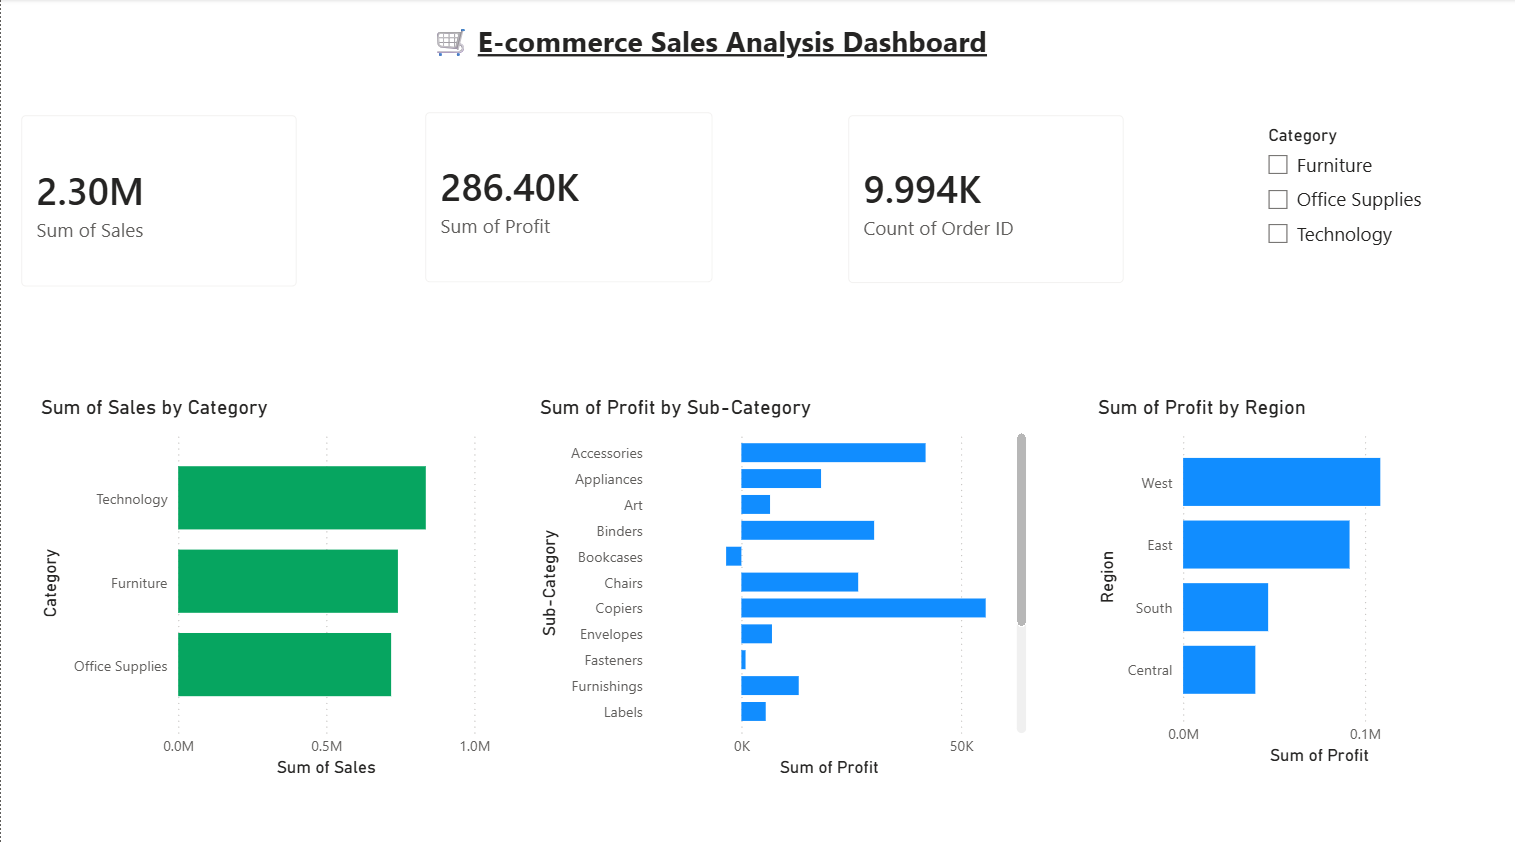

The page's visual inventory and layout, read from the dashboard file:
{"tool":"powerbi","page":{"name":"Page 1","canvas":[1280,720],"ordinal":0},"visuals":[{"type":"cardVisual","fields":{"Data":["Sum(Sample - Superstore.Sales)"]},"box":[0,80.8,267.4,179.8],"z":0},{"type":"cardVisual","fields":{"Data":["Sum(Sample - Superstore.Profit)"]},"box":[341.3,78.5,277.6,178.6],"z":1000},{"type":"cardVisual","fields":{"Data":["CountNonNull(Sample - Superstore.Order ID)"]},"box":[698.6,80.8,267.4,176.4],"z":2000},{"type":"clusteredBarChart","fields":{"Category":["Sample - Superstore.Category"],"Y":["Sum(Sample - Superstore.Sales)"]},"box":[28.4,334.5,390.3,327.7],"z":3000},{"type":"clusteredBarChart","fields":{"Y":["Sum(Sample - Superstore.Profit)"],"Category":["Sample - Superstore.Sub-Category"]},"box":[450.6,334.5,421,327.7],"z":4000},{"type":"slicer","fields":{"Values":["Sample - Superstore.Category"]},"box":[1058.1,102.4,203.7,130.8],"z":4001},{"type":"textbox","box":[188.9,13.7,777.1,47.8],"z":4002},{"type":"clusteredBarChart","fields":{"Category":["Sample - Superstore.Region"],"Y":["Sum(Sample - Superstore.Profit)"]},"box":[921.6,334.5,326.5,317.4],"z":4003}]}

Visuals, with their boxes in screenshot pixels (x1, y1, x2, y2), scaled from the page's 1280x720 canvas onto the 1515x844 screenshot:
cardVisual - Sum(Sample - Superstore.Sales): BBox(0, 95, 316, 305)
cardVisual - Sum(Sample - Superstore.Profit): BBox(404, 92, 733, 301)
cardVisual - CountNonNull(Sample - Superstore.Order ID): BBox(827, 95, 1143, 301)
clusteredBarChart - Sample - Superstore.Category x Sum(Sample - Superstore.Sales): BBox(34, 392, 496, 776)
clusteredBarChart - Sum(Sample - Superstore.Profit) x Sample - Superstore.Sub-Category: BBox(533, 392, 1032, 776)
slicer - Sample - Superstore.Category: BBox(1252, 120, 1493, 273)
textbox: BBox(224, 16, 1143, 72)
clusteredBarChart - Sample - Superstore.Region x Sum(Sample - Superstore.Profit): BBox(1091, 392, 1477, 764)
